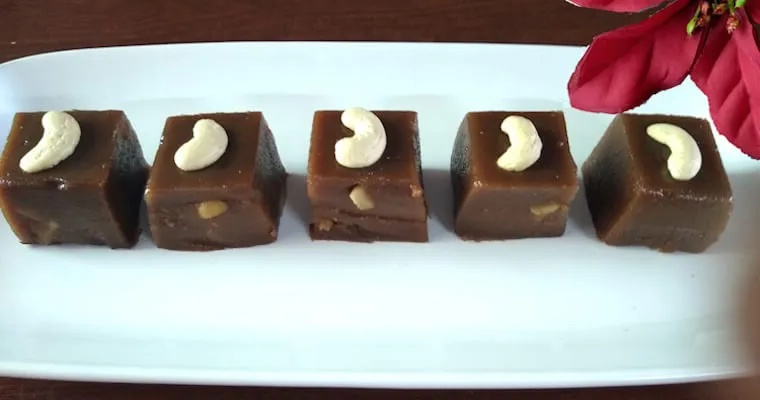dodol: (586, 103, 734, 253), (143, 110, 286, 252), (5, 107, 139, 249), (450, 109, 578, 242), (308, 108, 429, 245)
